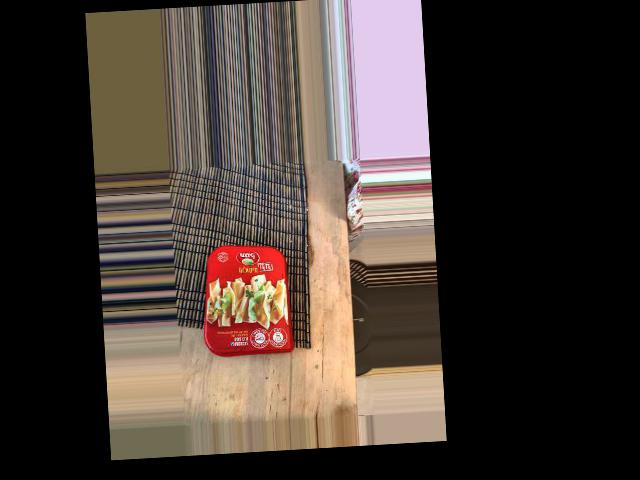cheese: (159, 195, 284, 297)
